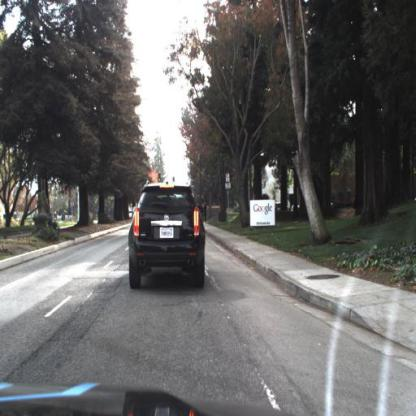car: (129, 184, 208, 298)
trafficLight-Green: (157, 171, 162, 183), (173, 176, 177, 184)
